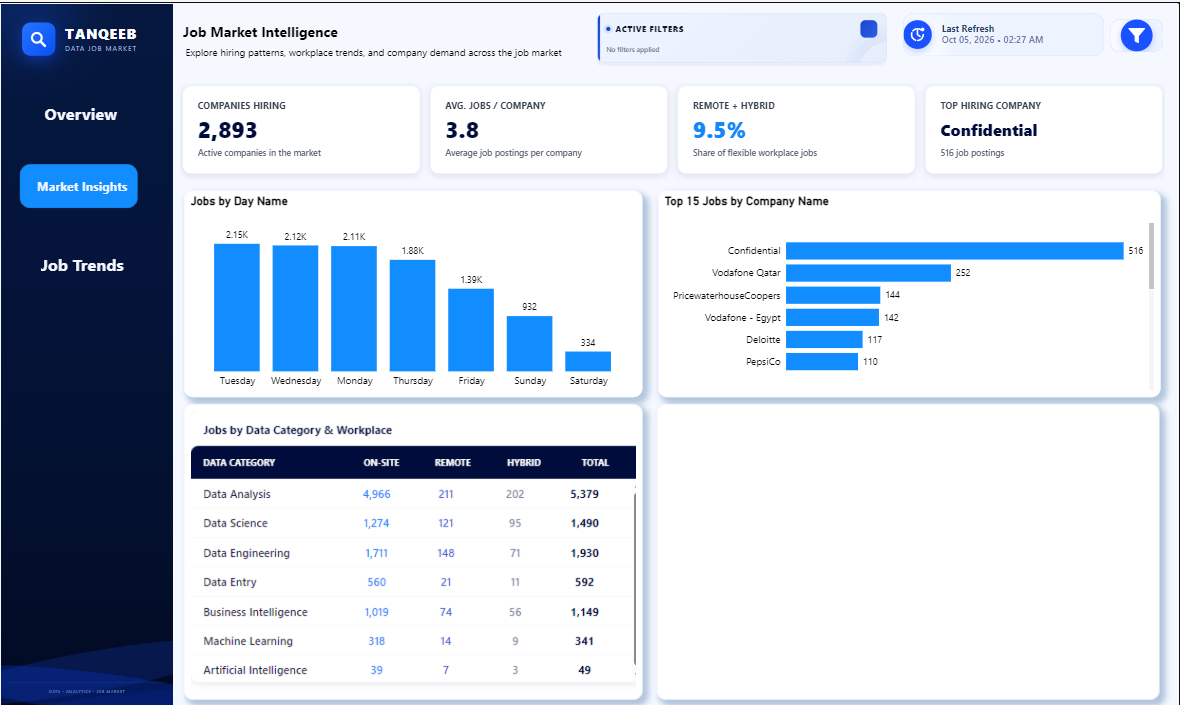

The dashboard page shown, as its layout file describes it:
{"tool":"powerbi","page":{"name":"Market Insights","canvas":[1920,1150],"ordinal":2},"visuals":[{"type":"htmlContent443BE3AD55E043BF878BED274D3A6865","fields":{"content":["Dax_meausres.Sidebar_HTML"]},"box":[0,-2,288,1152],"z":0},{"type":"actionButton","box":[288,24,500,48],"z":0,"group":"g1"},{"type":"actionButton","box":[292.8,65,645,33],"z":1000,"group":"g1"},{"type":"shape","box":[35.8,262,192,72],"z":1000},{"type":"actionButton","box":[47.5,144,168,72],"z":2000},{"type":"group","id":"g1","title":"Group 2","box":[288,24,649.8,74],"z":3000},{"type":"htmlContent443BE3AD55E043BF878BED274D3A6855","fields":{"content":["Dax_meausres.Filter_Header_HTML"]},"box":[1800,24,96,72],"z":4000},{"type":"htmlContent443BE3AD55E043BF878BED274D3A6855","fields":{"content":["Dax_meausres.Last Refresh HTML"]},"box":[1464,14,336,83],"z":5000},{"type":"shape","box":[1800,24,96,72],"z":6000},{"type":"clusteredBarChart","fields":{"Category":["Dim_Company.Company_name"],"Y":["Dax_meausres.Total Jobs"]},"box":[1070.3,306.1,816,336],"z":7000},{"type":"columnChart","fields":{"Category":["Dim_Date.Day_Name"],"Y":["Dax_meausres.Total Jobs"]},"box":[302.3,306.1,744,336],"z":8000},{"type":"htmlContent443BE3AD55E043BF878BED274D3A6855","fields":{"content":["Dax_meausres.HTML_DataCategory_Workplace"]},"box":[301.8,652.6,744,480],"z":9000},{"type":"htmlContent443BE3AD55E043BF878BED274D3A6855","fields":{"content":["Dax_meausres.HTML_Company_Workplace"]},"box":[1069.8,652.6,816,480],"z":10000},{"type":"htmlContent443BE3AD55E043BF878BED274D3A6855","fields":{"content":["Dax_meausres.HTML_Market_KPIs"]},"box":[289.3,126.8,1608,168],"z":11000},{"type":"actionButton","box":[47.8,262,168,72],"z":13000},{"type":"actionButton","box":[48,390,168,72],"z":14000},{"type":"htmlContent443BE3AD55E043BF878BED274D3A6855","fields":{"content":["Dax_meausres.Active_Filters_HTML"]},"box":[967,14,480,96],"z":15000}]}

Visuals, with their boxes in screenshot pixels (x1, y1, x2, y2), scaled from the page's 1920x1150 canvas onto the 1180x705 screenshot:
htmlContent443BE3AD55E043BF878BED274D3A6865 - Dax_meausres.Sidebar_HTML: select_region(0, 0, 177, 704)
actionButton: select_region(177, 15, 484, 44)
actionButton: select_region(180, 40, 576, 60)
shape: select_region(22, 161, 140, 205)
actionButton: select_region(29, 88, 132, 132)
"Group 2" group: select_region(177, 15, 576, 60)
htmlContent443BE3AD55E043BF878BED274D3A6855 - Dax_meausres.Filter_Header_HTML: select_region(1106, 15, 1165, 59)
htmlContent443BE3AD55E043BF878BED274D3A6855 - Dax_meausres.Last Refresh HTML: select_region(900, 9, 1106, 59)
shape: select_region(1106, 15, 1165, 59)
clusteredBarChart - Dim_Company.Company_name x Dax_meausres.Total Jobs: select_region(658, 188, 1159, 394)
columnChart - Dim_Date.Day_Name x Dax_meausres.Total Jobs: select_region(186, 188, 643, 394)
htmlContent443BE3AD55E043BF878BED274D3A6855 - Dax_meausres.HTML_DataCategory_Workplace: select_region(185, 400, 643, 694)
htmlContent443BE3AD55E043BF878BED274D3A6855 - Dax_meausres.HTML_Company_Workplace: select_region(657, 400, 1159, 694)
htmlContent443BE3AD55E043BF878BED274D3A6855 - Dax_meausres.HTML_Market_KPIs: select_region(178, 78, 1166, 181)
actionButton: select_region(29, 161, 133, 205)
actionButton: select_region(30, 239, 133, 283)
htmlContent443BE3AD55E043BF878BED274D3A6855 - Dax_meausres.Active_Filters_HTML: select_region(594, 9, 889, 67)
